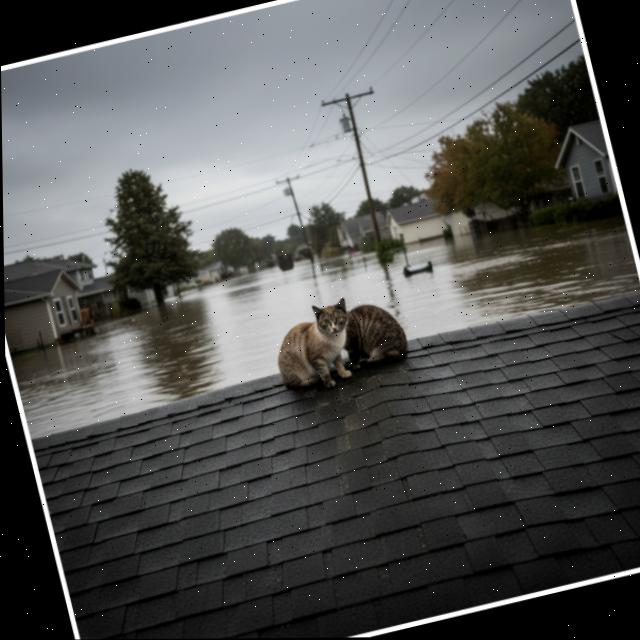cat: (261, 289, 374, 406), (327, 280, 420, 380)
